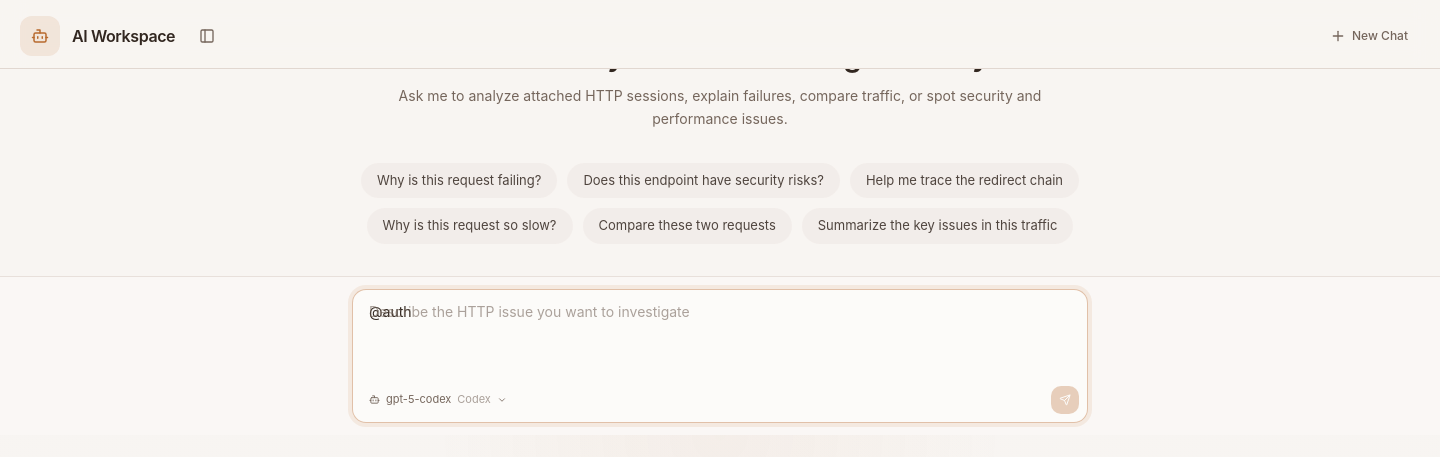
Test: AIWorkspacePage › opens a request picker when typing @ and filters by host
The width and height of the screenshot is (1440, 457).
Clear the field with test id "ai-composer-editor". click: (390, 311)
box: [369,302,412,320]
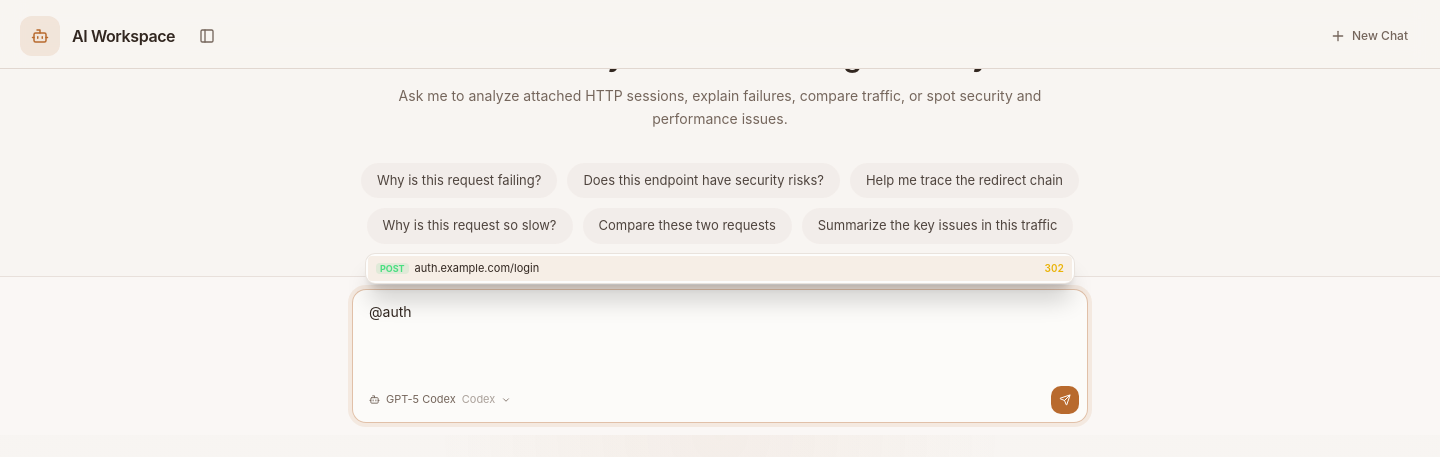
expect the element with test id "ai-mention-picker" is shown: met, box [365,253,1075,284]
expect the button with test id "ai-mention-option-session-2" is shown: met, box [368,256,1072,281]
